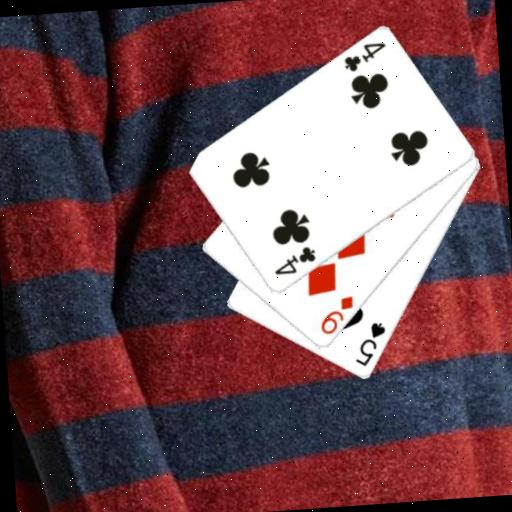4C: (340, 40, 390, 75), (270, 243, 319, 278)
5S: (350, 319, 390, 369)
9D: (315, 293, 357, 338)
